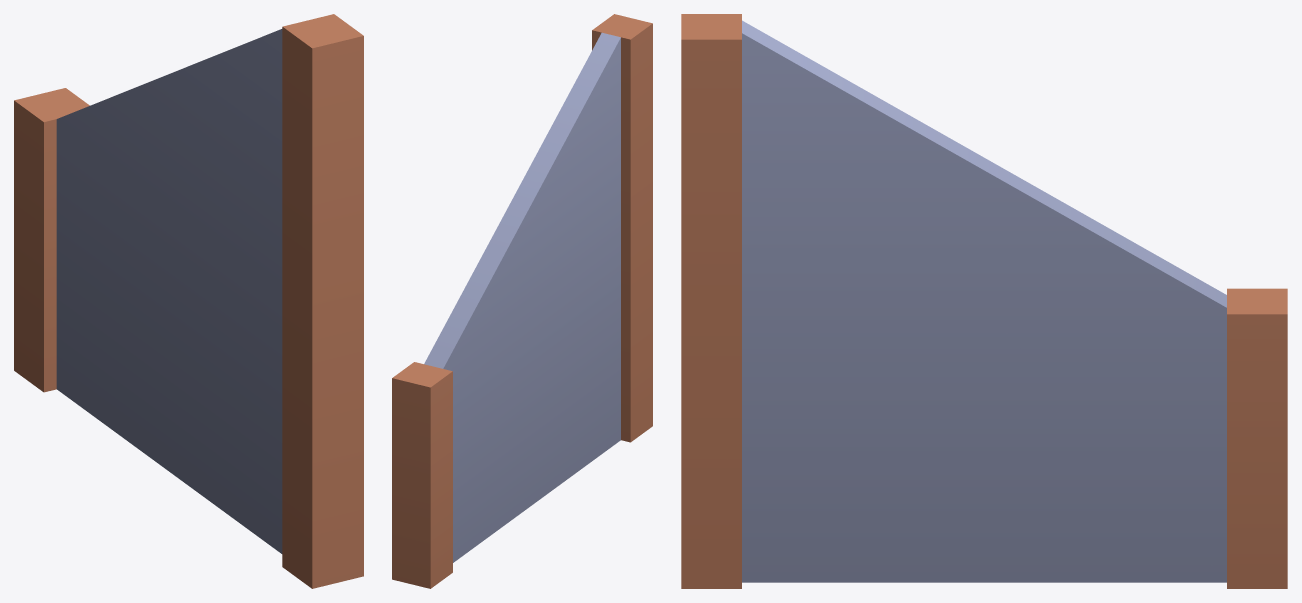
The model's file is wall-kn-wall-slope.glb.
The picture shows the model from 3 angles, left to right: view 1: azimuth 30°, elevation 25°; view 2: azimuth 150°, elevation 25°; view 3: azimuth 270°, elevation 25°; orthographic projection. The views are drawn at different scales.
Visible parts, largest first — view 1: wall-slope; view 2: wall-slope; view 3: wall-slope.
Part boxes in pixels (x1,y1,x2,y2): wall-slope: (14, 14, 363, 588); wall-slope: (392, 14, 652, 588); wall-slope: (681, 14, 1287, 588).
Size of the model in its own units: 0.3 by 3 by 3.
Materials: 1 (1 with a texture image).
